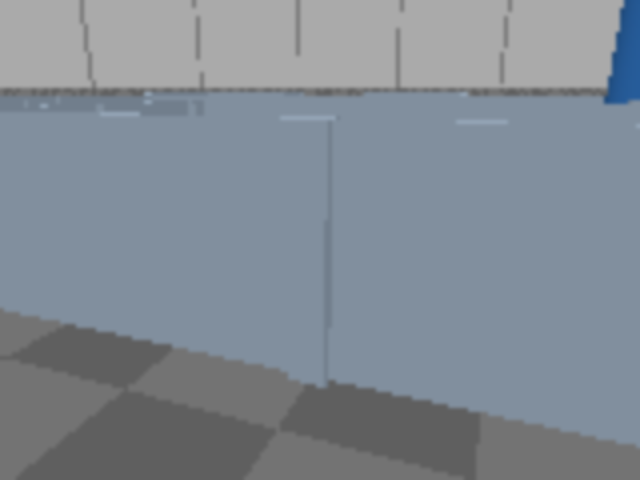person: (592, 0, 638, 190)
